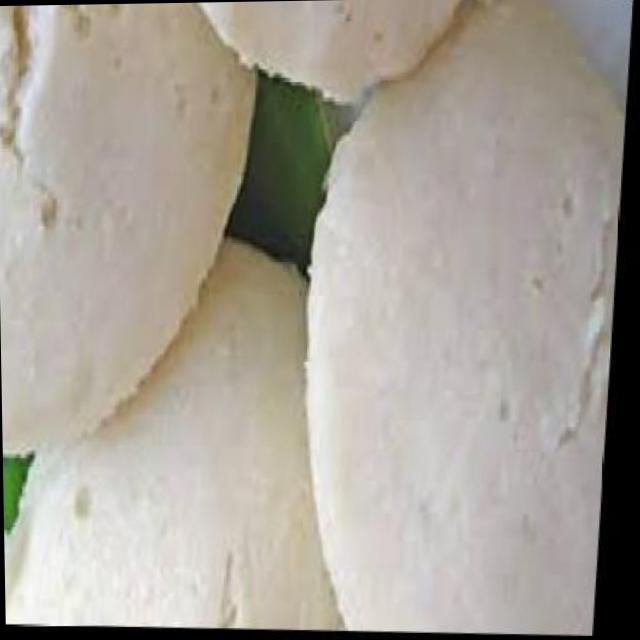idli: (285, 0, 640, 640), (0, 237, 381, 638), (0, 1, 271, 469), (180, 0, 465, 113)
